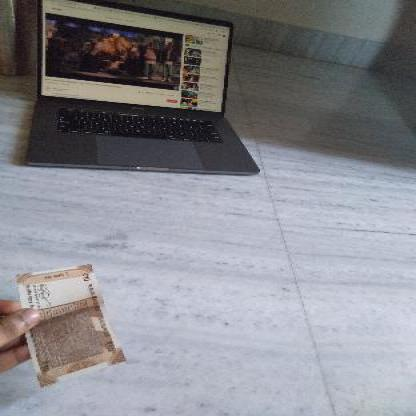New10Back: (20, 262, 119, 382)
